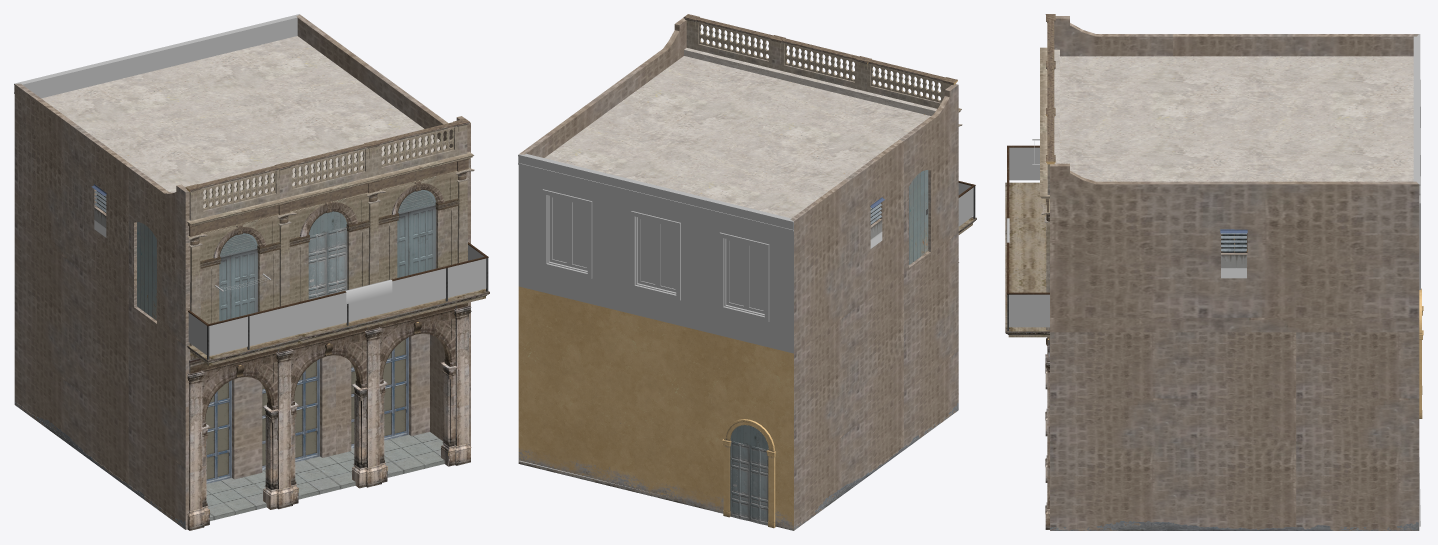
The model's file is Stone-Grey-CubanHouse1.fbx.
The picture shows the model from 3 angles, left to right: view 1: azimuth 30°, elevation 25°; view 2: azimuth 150°, elevation 25°; view 3: azimuth 270°, elevation 25°; orthographic projection. The views are drawn at different scales.
Visible parts, largest first — view 1: pasted__pasted__Roof, pasted__pasted__Wall_Module_Side_1, pasted__pasted__Wall_Module_Side_5, pasted__pasted__Wall_Module_5, pasted__pasted__Wall_Module_6, pasted__pasted__Wall_Module_2, pasted__pasted__Base_Arc_1, pasted__pasted__Floor, pasted__pasted__Wall_Module_Base_3, pasted__pasted__Base_Arc_3, pasted__pasted__Wall_Module_Back_3, pasted__pasted__Wall_Module_Base_1 (+10 smaller); view 2: pasted__pasted__Wall_Module_Back_1, pasted__pasted__Wall_Module_Back_3, pasted__pasted__Roof, pasted__pasted__Wall_Module_Side_1, pasted__pasted__Wall_Module_Side_5, pasted__pasted__Backdoor, pasted__pasted__Wall_Module_Side_6, pasted__pasted__Wall_Module_2, pasted__pasted__Wall_Module_5, pasted__pasted__Wall_Module_6, pasted__pasted__Sidewall_door, pasted__pasted__Balcony_1 (+1 smaller); view 3: pasted__pasted__Wall_Module_Side_3, pasted__pasted__Wall_Module_Side_6, pasted__pasted__Roof, pasted__pasted__Wall_Module_Side_5, pasted__pasted__Balcony_1, pasted__pasted__Balcony_3, pasted__pasted__Balcony_2, pasted__pasted__Decal_Subtle001, pasted__pasted__Wall_Module_Back_3, pasted__pasted__Wall_Module_5, pasted__pasted__Wall_Module_2, pasted__pasted__Wall_Module_6 (+3 smaller).
Part boxes in pixels (box(x1,y1,x2,y2)): pasted__pasted__Roof: box(41, 36, 449, 207); pasted__pasted__Wall_Module_Side_1: box(14, 221, 190, 529); pasted__pasted__Wall_Module_Side_5: box(14, 83, 190, 345); pasted__pasted__Wall_Module_5: box(366, 118, 474, 284); pasted__pasted__Wall_Module_6: box(185, 165, 296, 346); pasted__pasted__Wall_Module_2: box(274, 140, 383, 303); pasted__pasted__Base_Arc_1: box(262, 324, 387, 509); pasted__pasted__Floor: box(206, 432, 444, 520); pasted__pasted__Wall_Module_Base_3: box(336, 333, 429, 454); pasted__pasted__Base_Arc_3: box(379, 303, 471, 466); pasted__pasted__Wall_Module_Back_3: box(14, 14, 299, 98); pasted__pasted__Wall_Module_Base_1: box(248, 355, 335, 475); pasted__pasted__Wall_Module_Back_1: box(518, 286, 793, 530); pasted__pasted__Wall_Module_Back_3: box(518, 153, 793, 353); pasted__pasted__Roof: box(544, 48, 936, 218); pasted__pasted__Wall_Module_Side_1: box(794, 233, 958, 530); pasted__pasted__Wall_Module_Side_5: box(790, 84, 958, 352); pasted__pasted__Backdoor: box(722, 419, 775, 528); pasted__pasted__Wall_Module_Side_6: box(519, 17, 686, 157); pasted__pasted__Wall_Module_2: box(769, 35, 871, 91); pasted__pasted__Wall_Module_5: box(683, 14, 772, 68); pasted__pasted__Wall_Module_6: box(867, 59, 962, 126); pasted__pasted__Sidewall_door: box(870, 170, 928, 264); pasted__pasted__Balcony_1: box(958, 181, 976, 234); pasted__pasted__Wall_Module_Side_3: box(1050, 332, 1419, 530); pasted__pasted__Wall_Module_Side_6: box(1050, 163, 1419, 332); pasted__pasted__Roof: box(1054, 49, 1413, 181); pasted__pasted__Wall_Module_Side_5: box(1054, 16, 1418, 56); pasted__pasted__Balcony_1: box(1005, 145, 1046, 230); pasted__pasted__Balcony_3: box(1005, 245, 1049, 340); pasted__pasted__Balcony_2: box(1005, 193, 1046, 282); pasted__pasted__Decal_Subtle001: box(1050, 521, 1418, 530); pasted__pasted__Wall_Module_Back_3: box(1413, 34, 1420, 289); pasted__pasted__Wall_Module_5: box(1040, 114, 1055, 329); pasted__pasted__Wall_Module_2: box(1040, 61, 1055, 148); pasted__pasted__Wall_Module_6: box(1040, 14, 1055, 235).
Size of the model in its own units: 1081 by 1213 by 1246.
